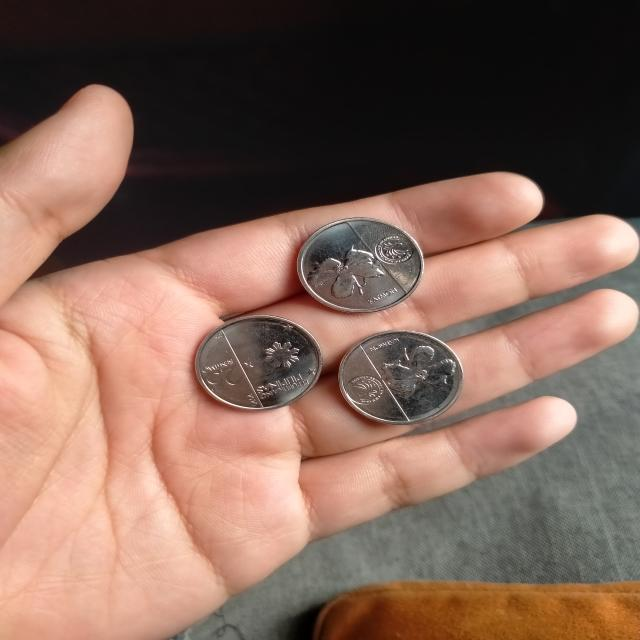25Cent_New_Back: (308, 237, 388, 303), (385, 338, 460, 400)
25Cent_New_Front: (192, 346, 252, 396)
